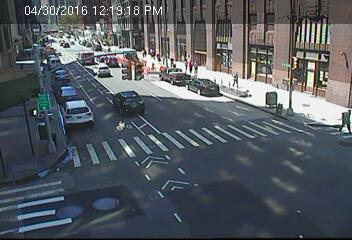neg: (25, 105, 43, 129), (262, 88, 278, 110), (239, 87, 253, 106), (249, 139, 263, 158), (114, 117, 127, 134), (132, 63, 145, 80), (318, 71, 331, 87), (172, 74, 184, 90), (209, 76, 220, 89), (157, 66, 167, 80), (173, 167, 182, 180), (303, 100, 312, 112), (261, 65, 269, 76), (220, 56, 228, 66), (93, 41, 100, 51), (62, 41, 68, 50), (125, 48, 131, 56), (107, 46, 112, 53)
pos: (337, 106, 351, 136), (184, 56, 198, 74), (229, 71, 242, 88), (191, 59, 202, 73), (181, 57, 191, 71), (148, 46, 158, 59), (169, 56, 178, 68), (139, 47, 147, 58), (156, 51, 164, 61)
